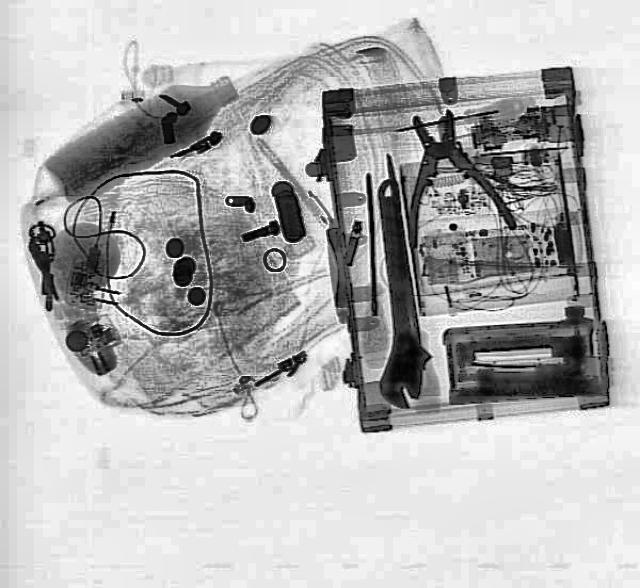Pliers: (378, 104, 518, 248)
Wrench: (353, 176, 435, 412)
